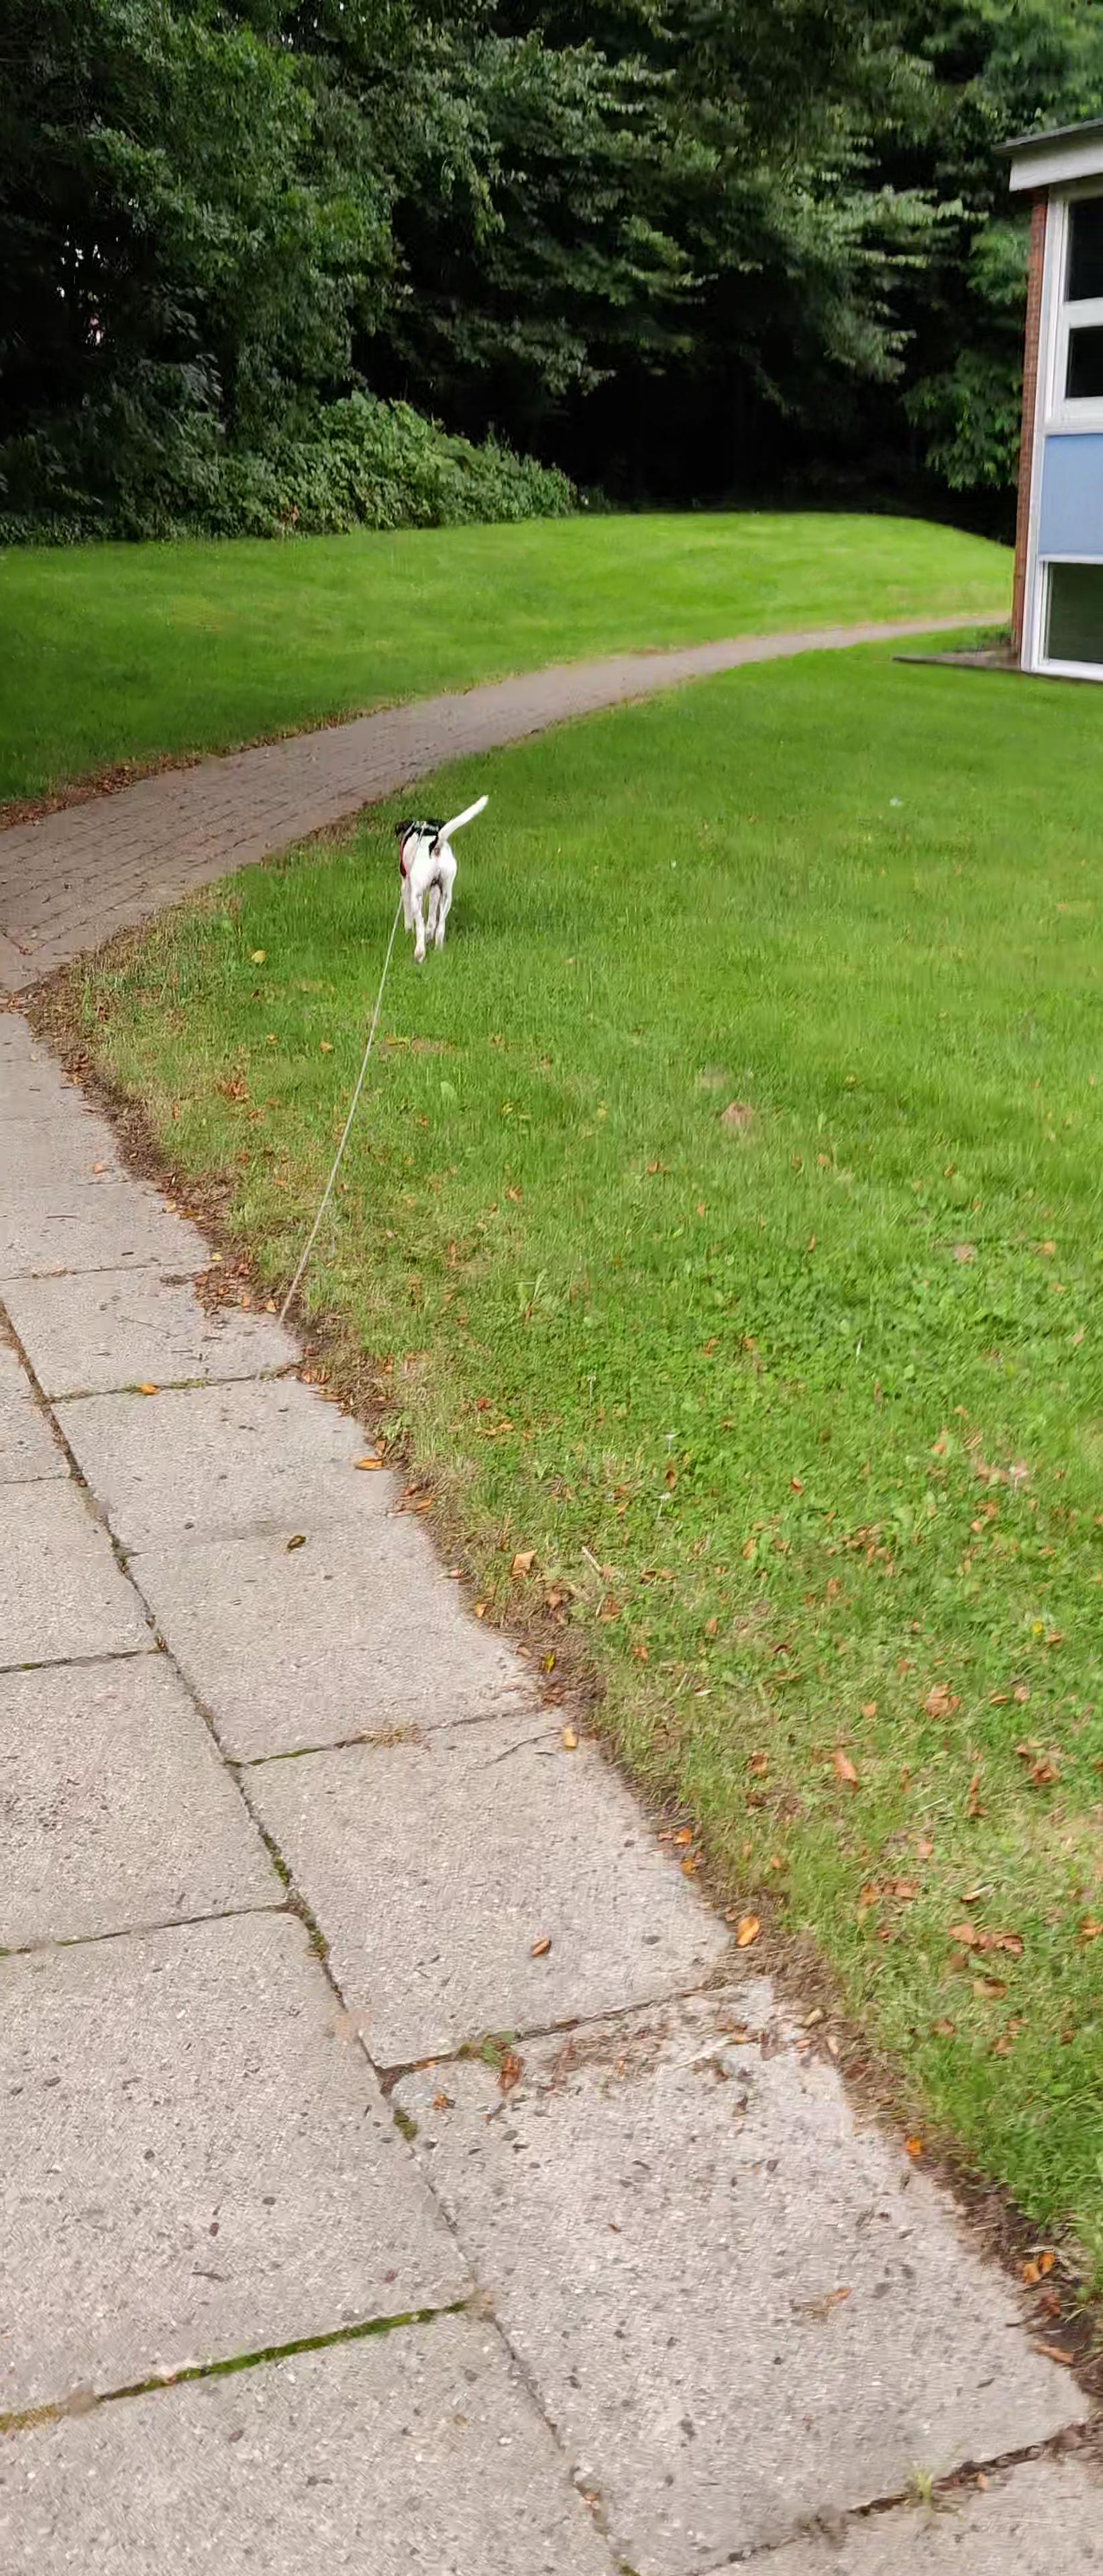Dog: (391, 790, 492, 966)
